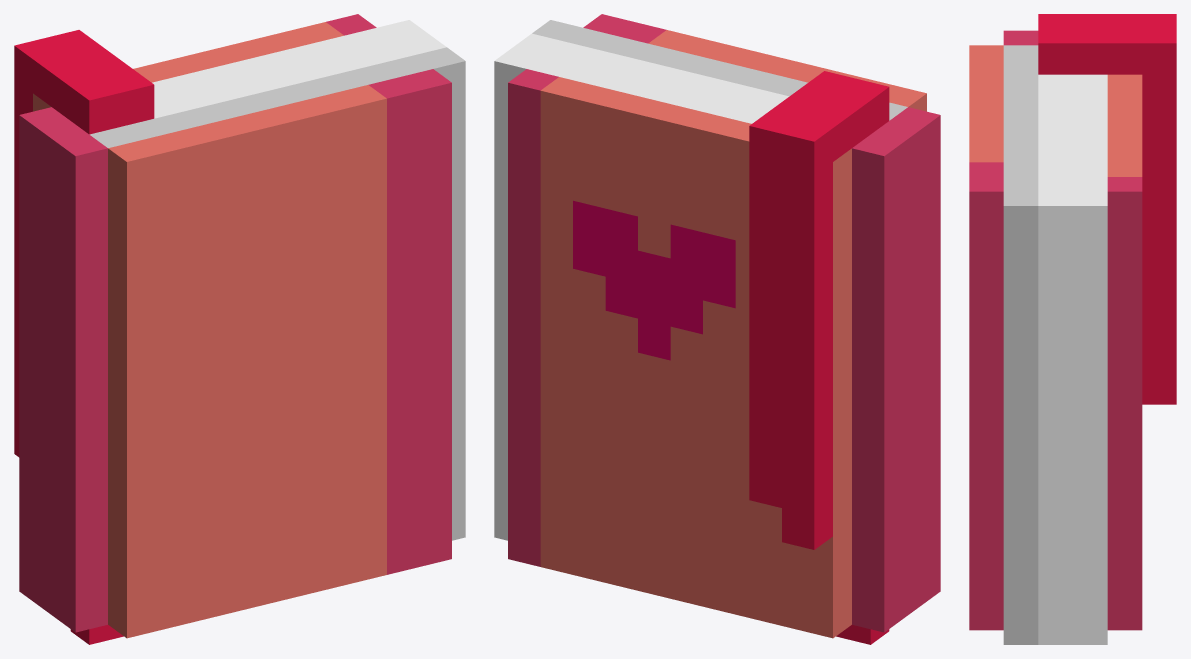
Rendered from journal.vox.obj.
3 renders of one model, left to right at view 1: azimuth 30°, elevation 25°; view 2: azimuth 150°, elevation 25°; view 3: azimuth 270°, elevation 25°, orthographic. The views are drawn at different scales.
Bounding box in the file's own units: 1.2 × 1.6 × 0.6.
1 material, 1 textured.
